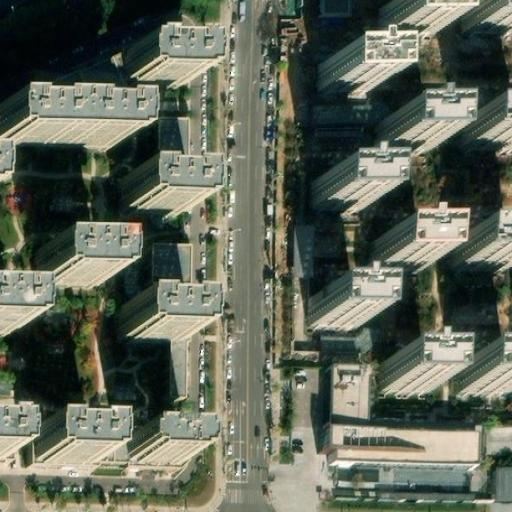building: (155, 242, 193, 399), (331, 428, 483, 463), (0, 109, 127, 146), (126, 47, 195, 86), (31, 426, 98, 464), (331, 363, 370, 428), (38, 245, 107, 280), (124, 179, 191, 215), (122, 303, 188, 339), (154, 118, 186, 182), (322, 51, 376, 88), (314, 168, 369, 204), (305, 288, 360, 324), (372, 230, 426, 266), (377, 354, 431, 390), (381, 110, 435, 146), (124, 434, 186, 462), (461, 354, 509, 390), (464, 109, 512, 145), (456, 229, 504, 265), (381, 0, 435, 32), (466, 0, 512, 31), (496, 465, 512, 499), (0, 432, 16, 463)
